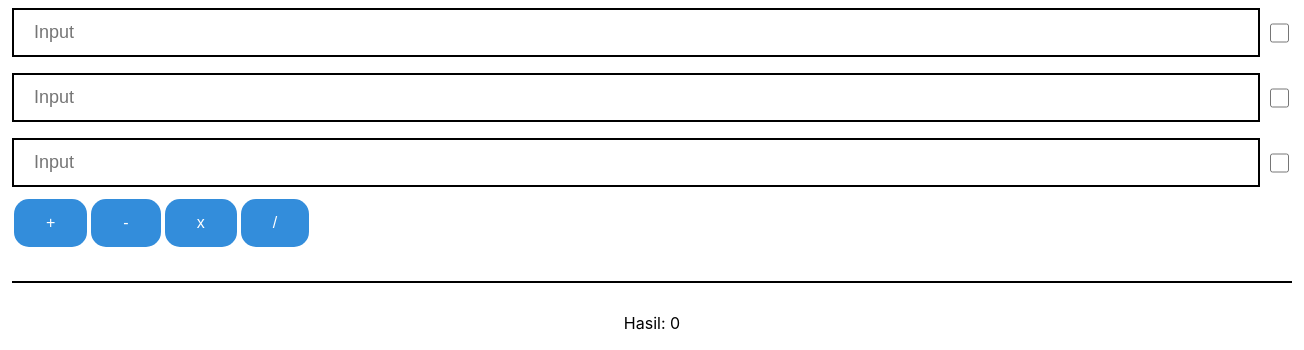
Test multiply when all checked
The width and height of the screenshot is (1304, 350).
Type "10" into the 1st number field with placeholder "Input".
click(636, 32); type("10")  # box [12,8,1260,57]
Type "2" into the 1st number field with placeholder "Input".
click(636, 98); type("2")  # box [12,73,1260,122]
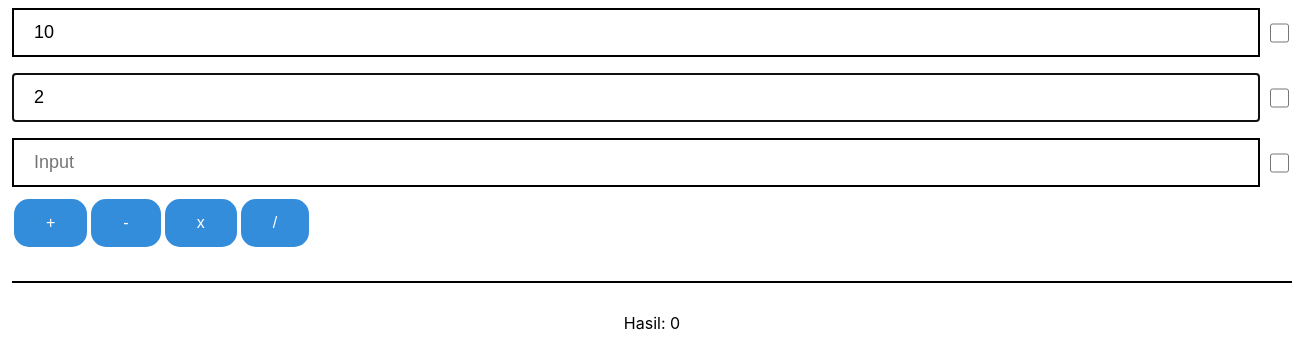
Type "3" into the number field with placeholder "Input".
click(636, 162); type("3")  # box [12,138,1260,187]
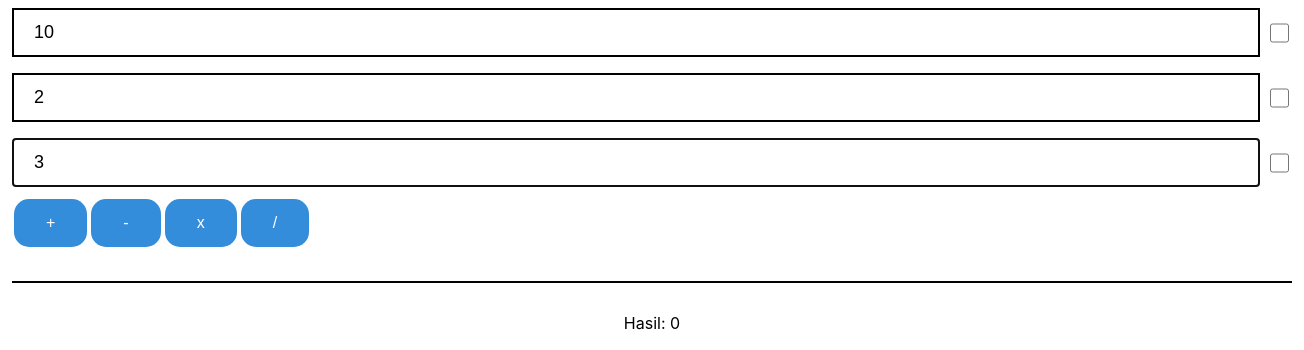
Click the 1st checkbox.
click(1279, 32)  # box [1270,22,1289,42]
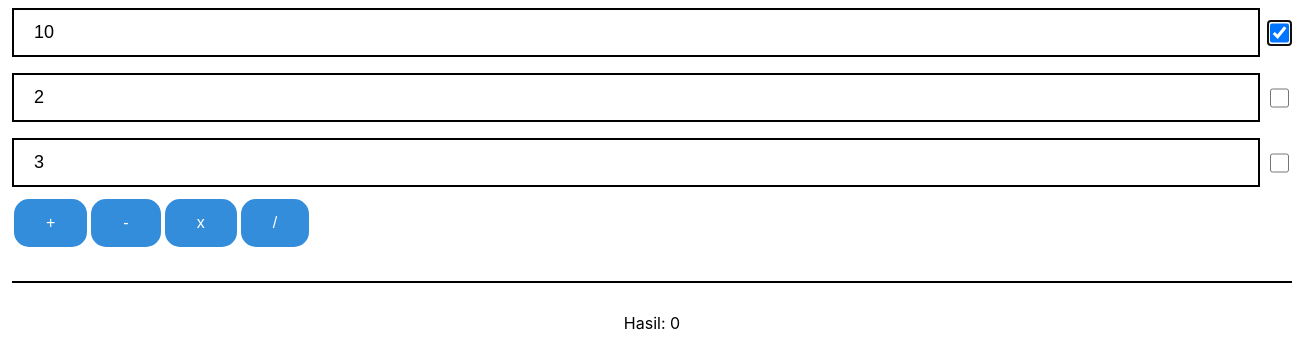
Click the 2nd checkbox.
click(1279, 98)  # box [1270,88,1289,108]
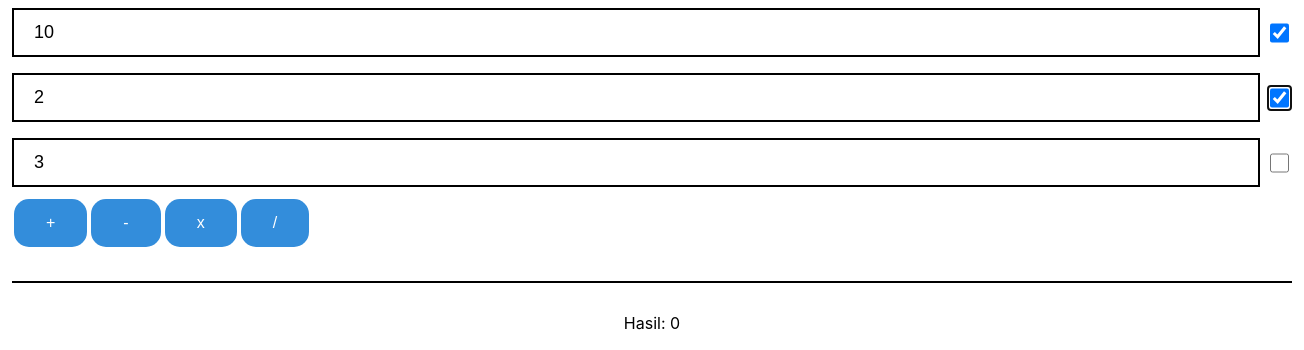
Click the 3rd checkbox.
click(1279, 162)  # box [1270,152,1289,172]
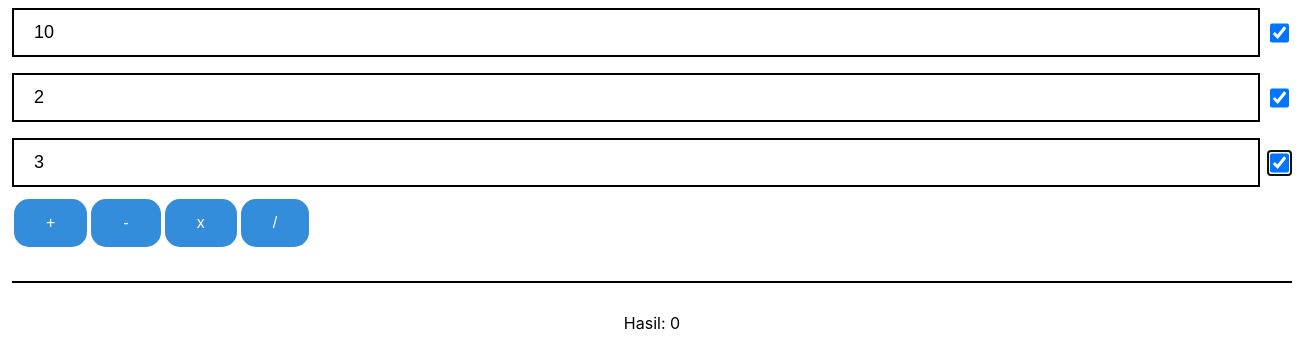
Click the button "x".
click(201, 223)  # box [165,199,237,247]
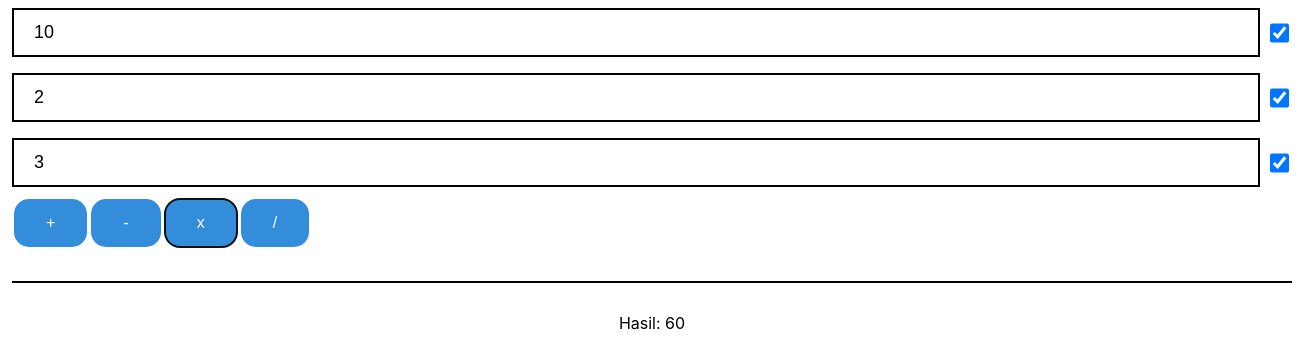
expect the text with test id "result-fragment" reads "Hasil: 60": met, box [619,313,685,333]
